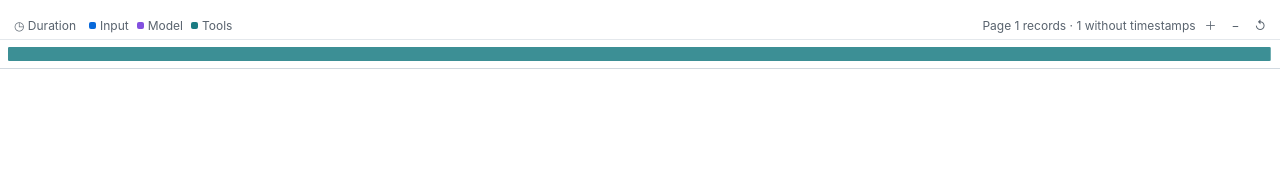
compact DSH-style exact record navigation › keeps missing timestamps navigable in record order and discloses them in duration mode
This screenshot has width=1280, height=172.
Expected: the text with class "task-timeline-page" shows "1 without timestamps", [1066,18,1196,32]
Click the button with class "task-timeline-duration": (45, 26) [8,14,82,38]
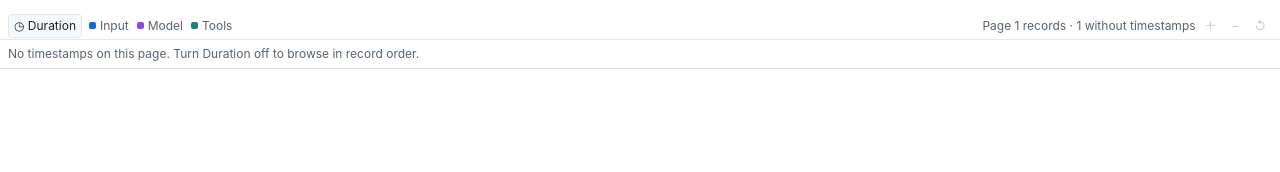
Expected: the text "Turn Duration off" is shown, [8,46,419,61]
